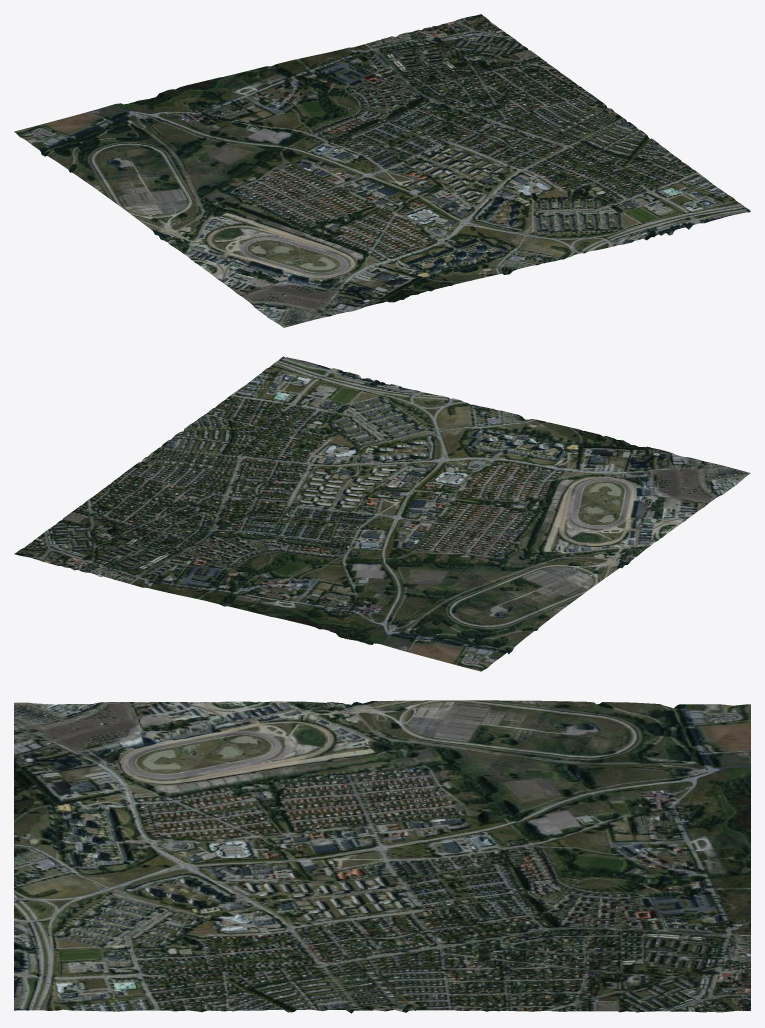
Rendered from map_10_249_427.dae.
3 views of the same model, one above another, from view 1: azimuth 30°, elevation 25°; view 2: azimuth 150°, elevation 25°; view 3: azimuth 270°, elevation 25° (orthographic). The views are drawn at different scales.
Parts seen in each view (by area): view 1: Ter0; view 2: Ter0; view 3: Ter0.
Part boxes in pixels (box(x1,y1,x2,y2)): Ter0: box(14, 14, 750, 327); Ter0: box(14, 356, 750, 671); Ter0: box(14, 700, 750, 1013).
Size of the model in its own units: 2044 by 2044 by 55.3.
1 material, 1 textured.
